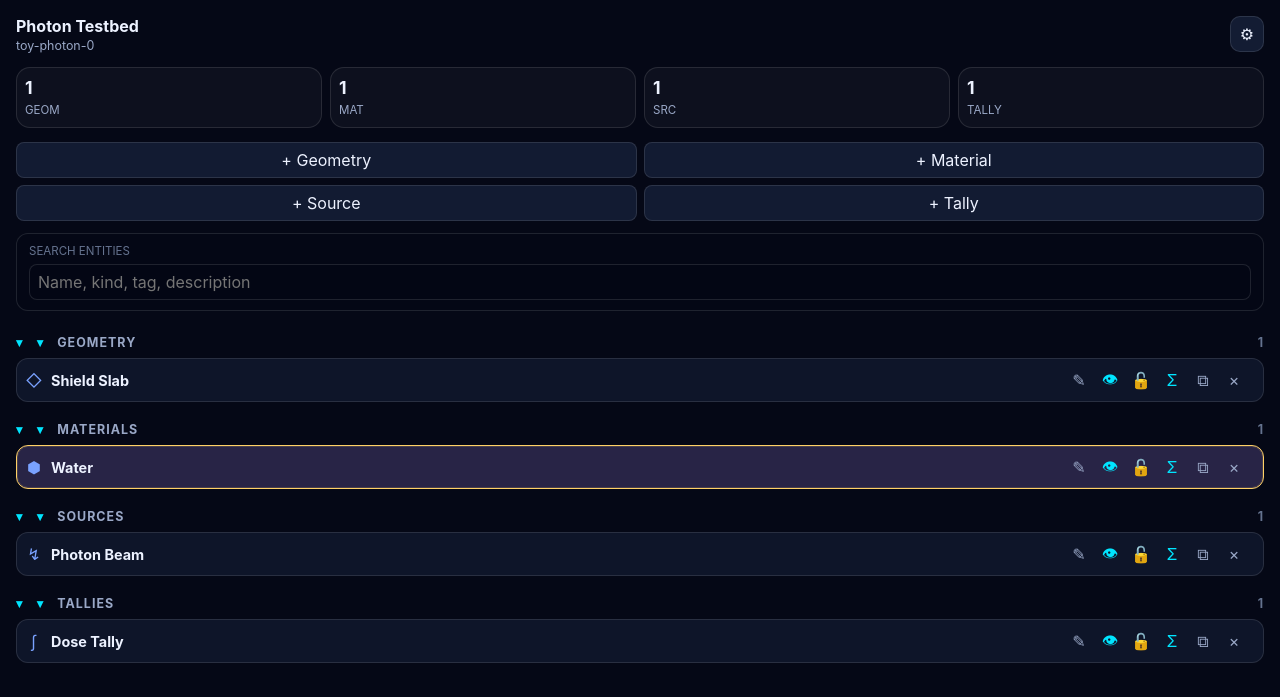
Test: ProjectTree › opens and saves the metadata editor
Click the button named "Edit entity metadata" at (1079, 380), box [1066,367,1092,393]
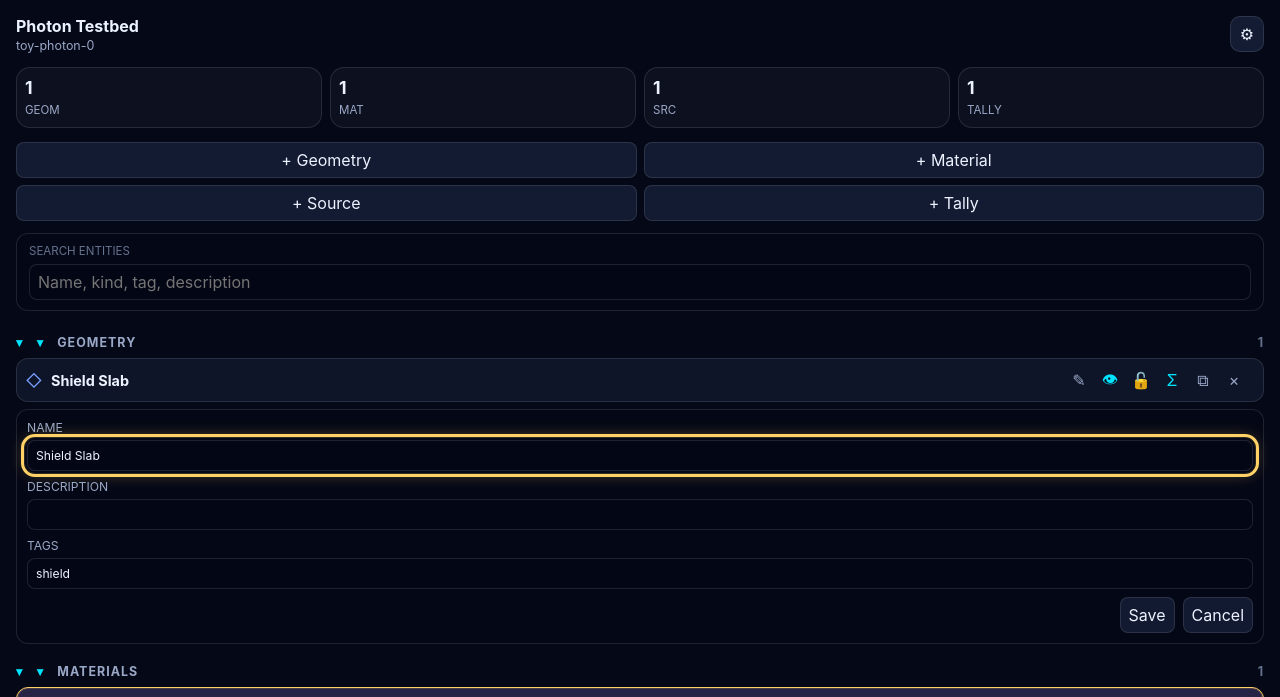
Replace the text in the field labelled "Name" with "Primary Shield" at (640, 456), box [27,440,1253,471]
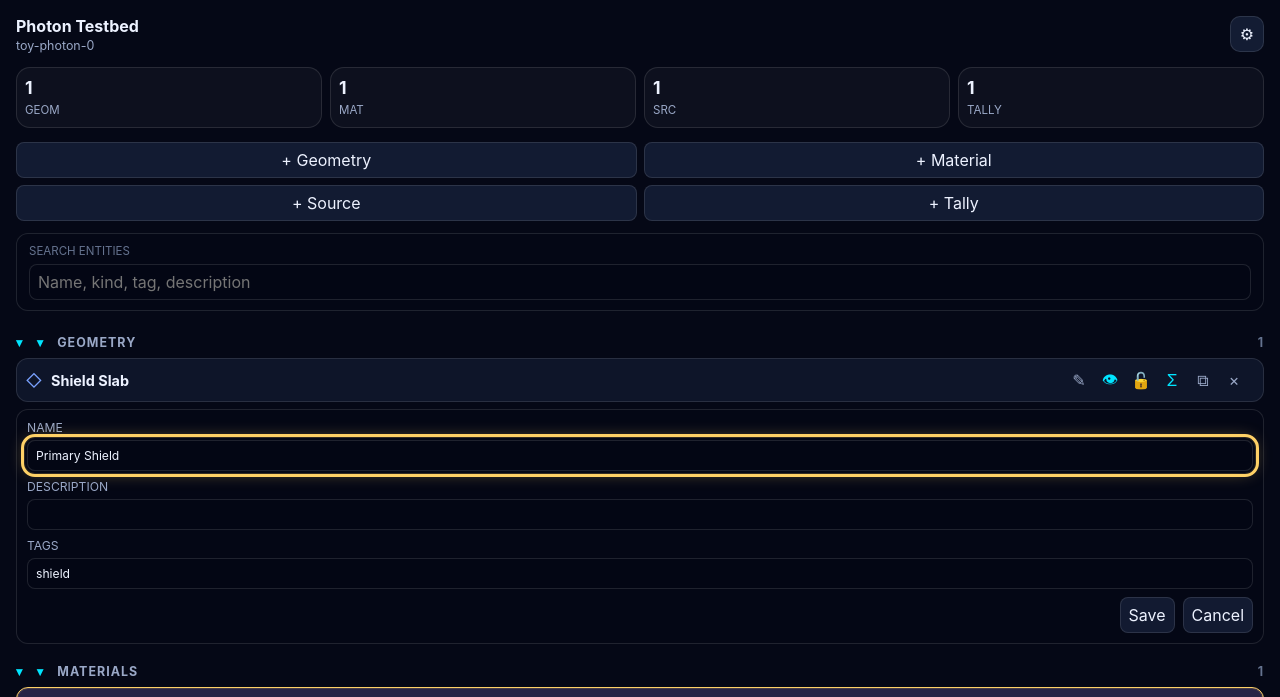
Type "front slab" into the field labelled "Description" at (640, 514), box [27,499,1253,530]
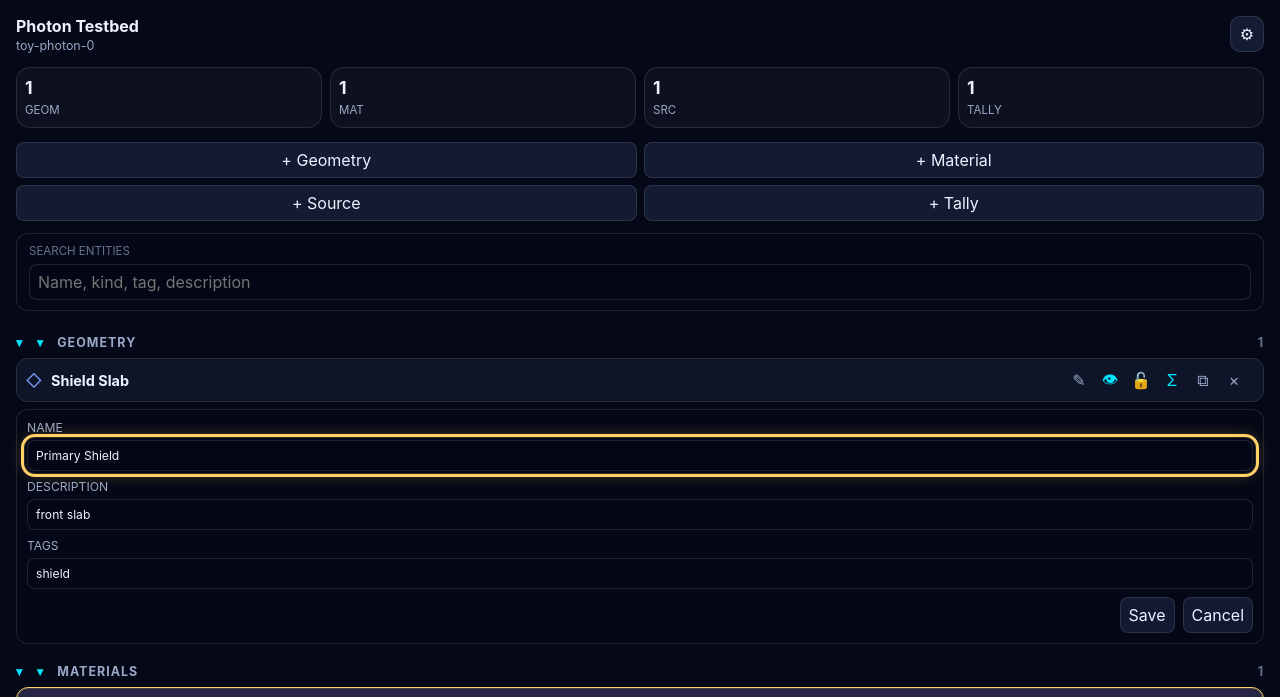
Replace the text in the field labelled "Tags" with "shield, primary" at (640, 574), box [27,558,1253,589]
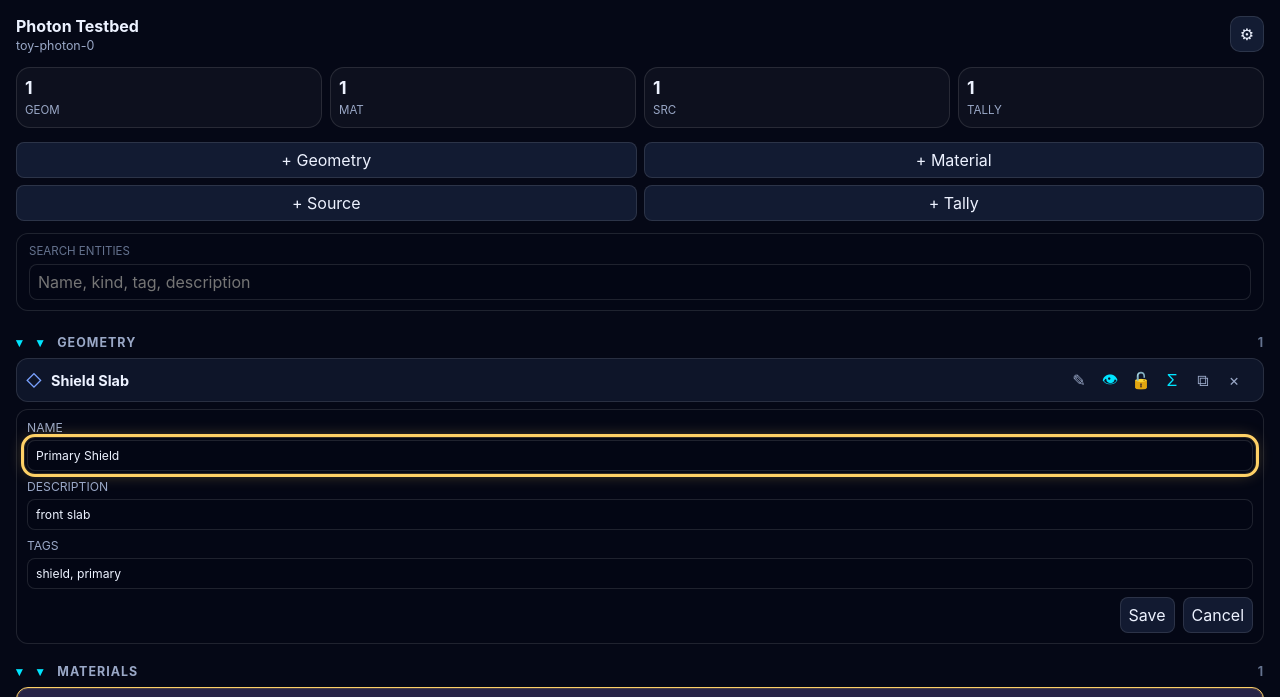
Click the button "Save" at (1147, 615), box [1120,597,1174,633]
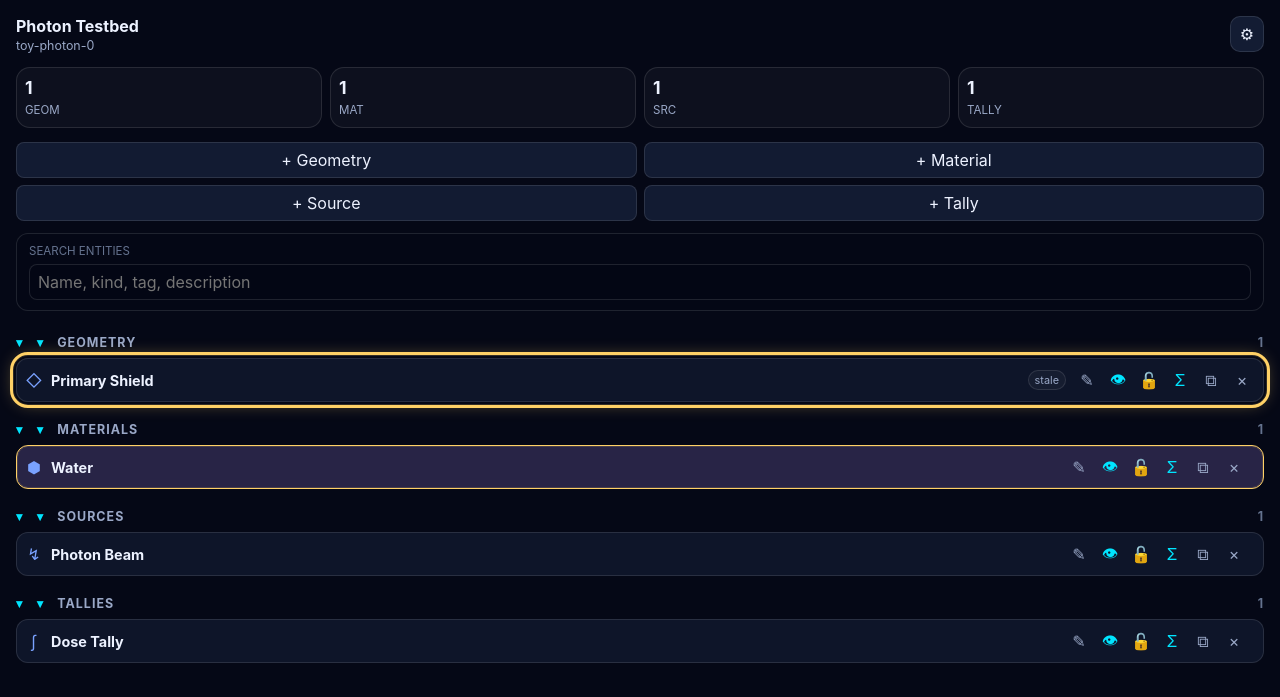
Result: the list item with aria-label "Primary Shield, geometry" is shown at [16,358,1264,402]
